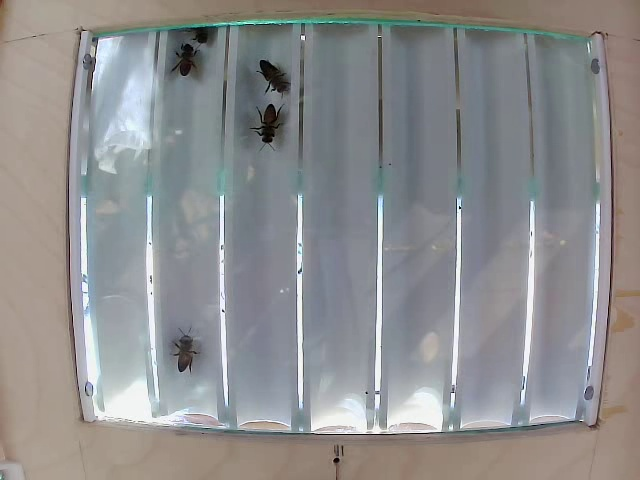bee: (156, 326, 207, 375), (245, 98, 282, 154), (253, 58, 295, 93), (165, 49, 208, 77)
